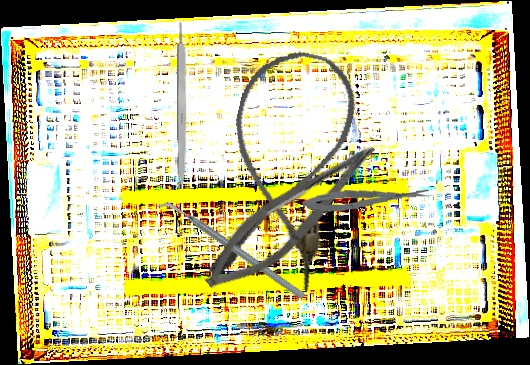Cannula: (201, 40, 365, 297)
Chopper: (155, 162, 307, 338)
Micro Scissor: (193, 122, 387, 308), (302, 184, 430, 215)
Scalpel Handle: (177, 21, 188, 189)
